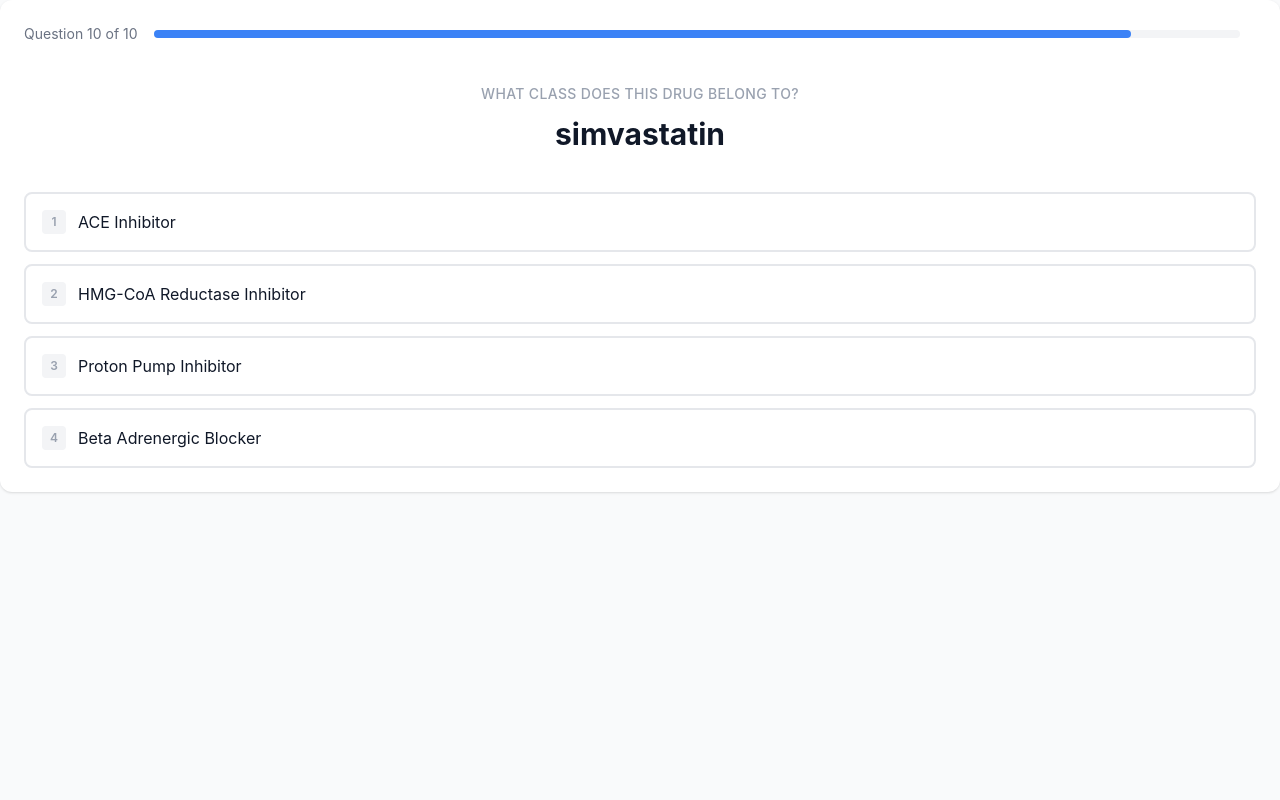
Scenario: MultipleChoice › shows See Results on the last question
Click the text "ACE Inhibitor".
click(127, 222)  # box [78,210,176,234]
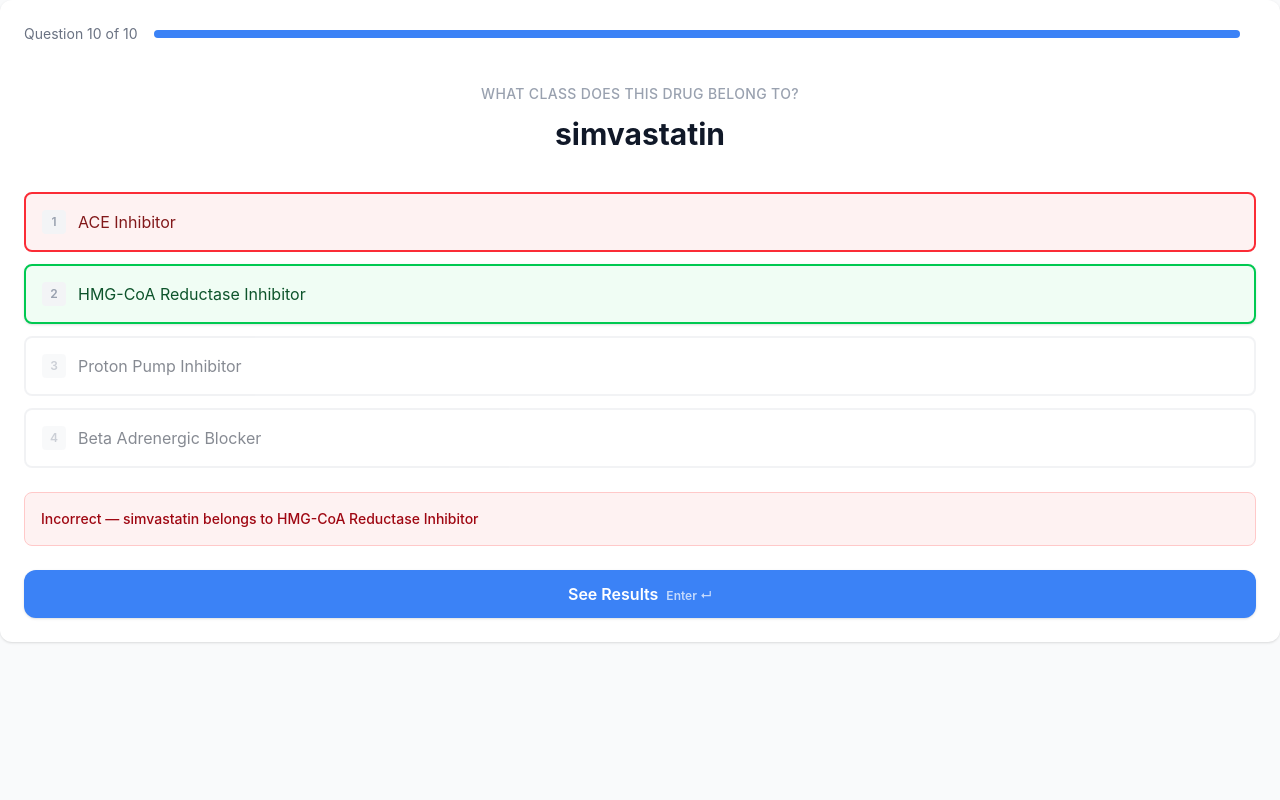
Now the button "See Results" is shown, box [24,570,1256,618]
